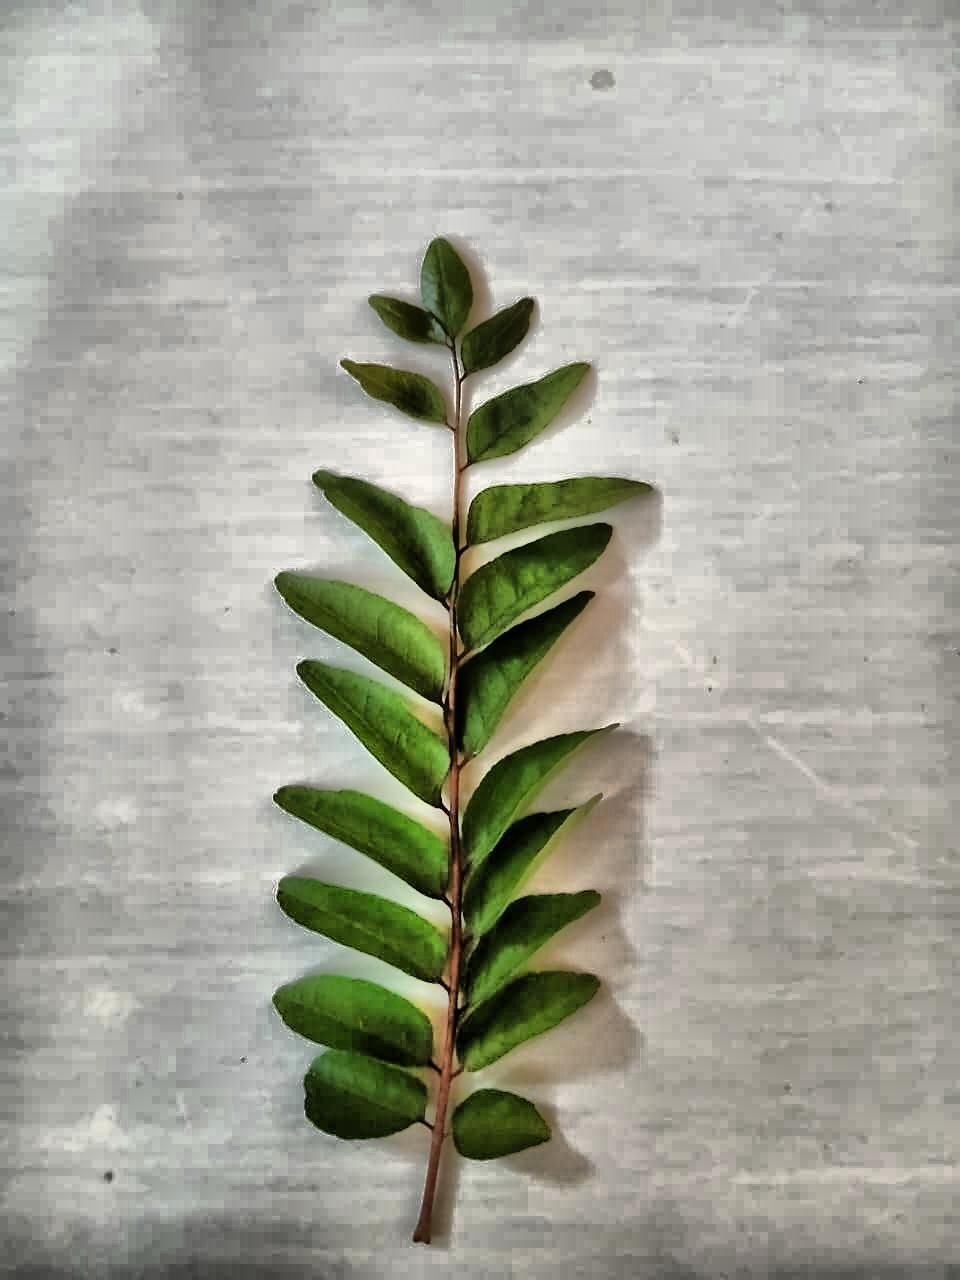daun kari: (273, 238, 652, 1242)
